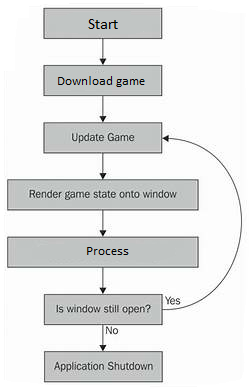arrow: (160, 132, 244, 312), (97, 35, 107, 66), (97, 92, 107, 122), (97, 265, 107, 295), (97, 325, 107, 353), (98, 151, 107, 181), (97, 209, 107, 236)
process: (5, 177, 200, 214), (5, 234, 200, 269), (42, 291, 166, 328), (41, 349, 165, 385), (41, 6, 164, 42), (41, 120, 163, 156), (42, 63, 164, 98)
text: (26, 188, 178, 201), (56, 74, 147, 89), (53, 302, 152, 315), (52, 361, 154, 372), (69, 131, 136, 144), (84, 245, 130, 258), (86, 17, 119, 31), (162, 294, 181, 306), (103, 325, 120, 336)
